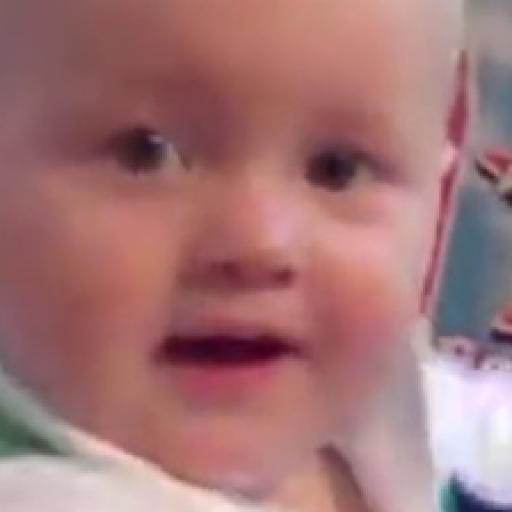Autism: (10, 8, 469, 498)
